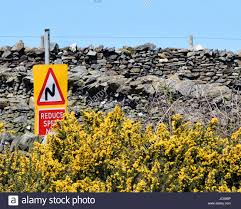Double_bend_right: (34, 65, 68, 106)
